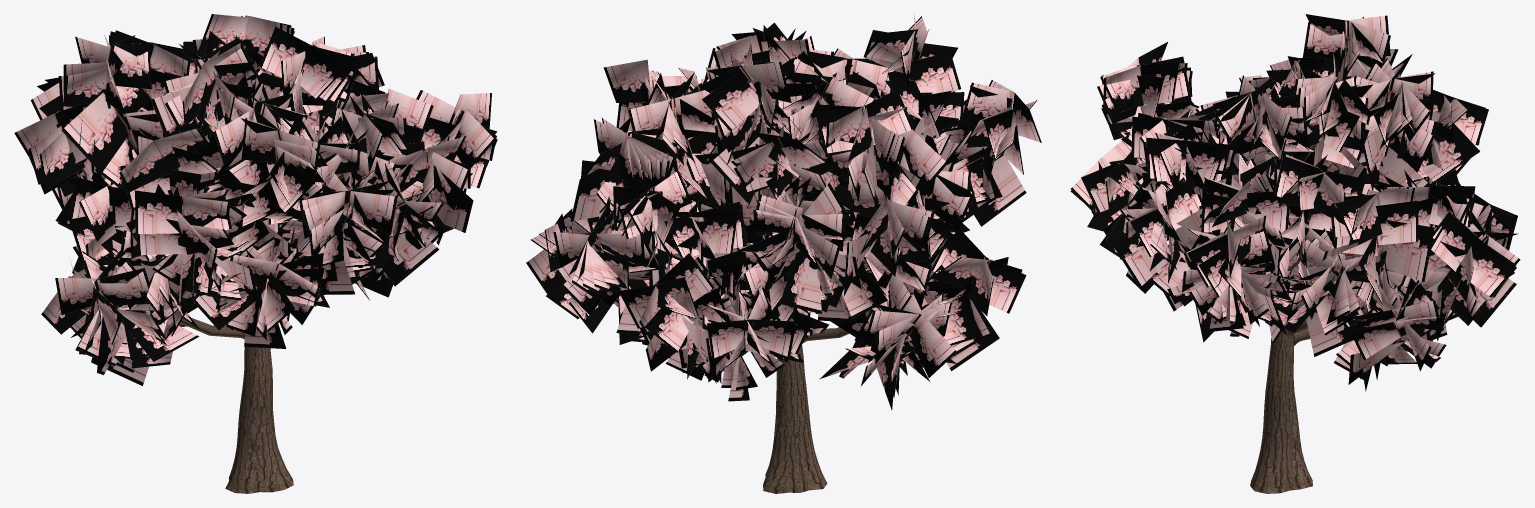
File: survivor-sakura.glb
3 views of the same model, side by side, from view 1: azimuth 30°, elevation 25°; view 2: azimuth 150°, elevation 25°; view 3: azimuth 270°, elevation 25° (orthographic). The views are drawn at different scales.
Visible parts, largest first — view 1: Sakura; view 2: Sakura; view 3: Sakura.
Part boxes in pixels (bbox=[...]): Sakura: bbox=[14, 14, 497, 493]; Sakura: bbox=[526, 14, 1041, 493]; Sakura: bbox=[1070, 14, 1520, 493].
Bounding box in the file's own units: 0.4036 × 0.4172 × 0.4016.
Materials: 2 (2 with a texture image).
